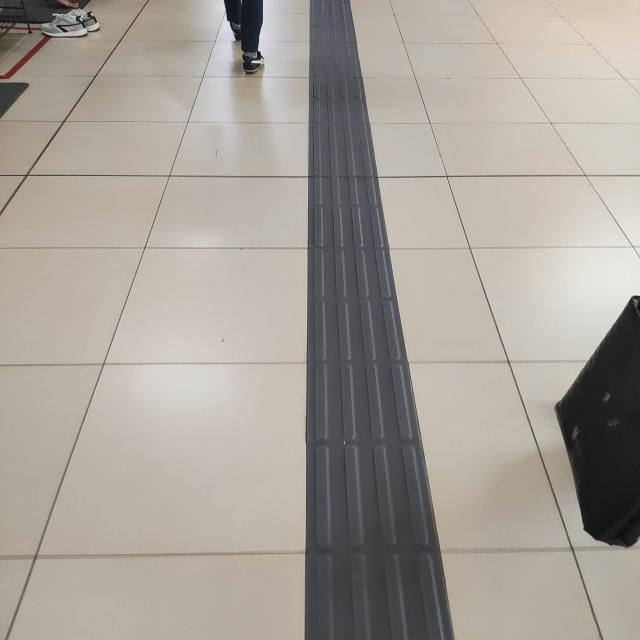lurus: (286, 43, 438, 640)
